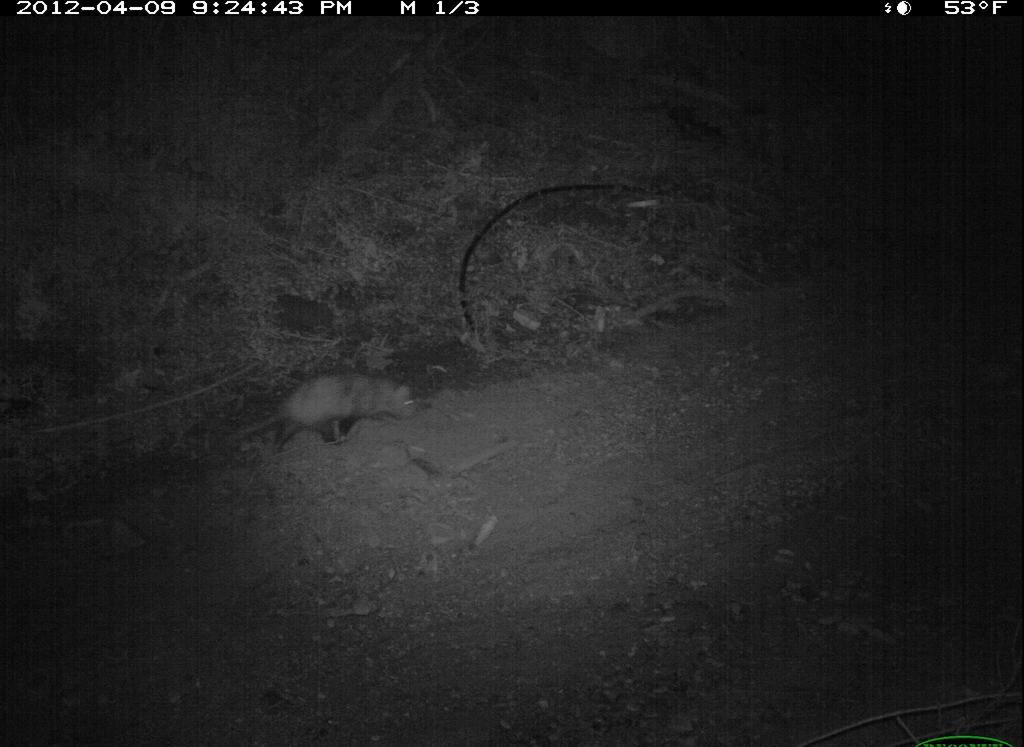opossum: (222, 353, 442, 464)
